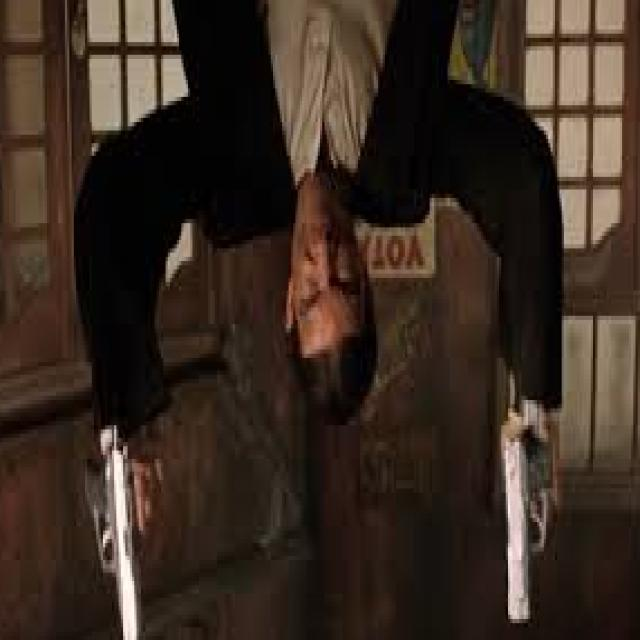gun: (478, 341, 564, 640), (81, 417, 170, 640)
